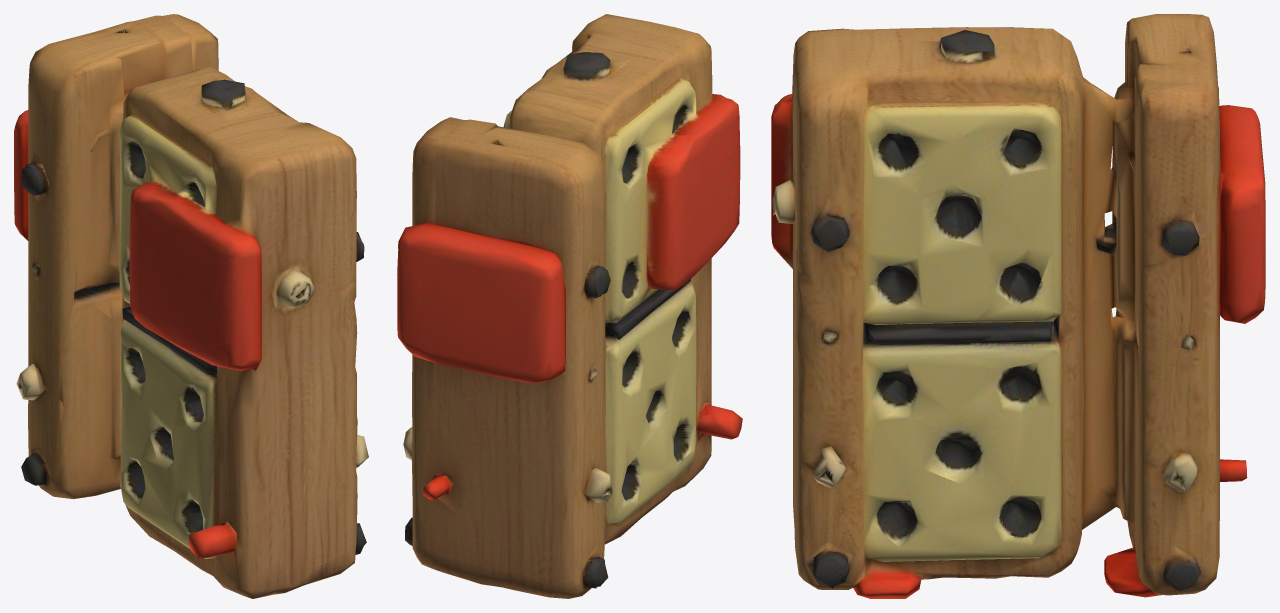
The model's file is dominoes.glb.
3 views of the same model, side by side, from view 1: azimuth 30°, elevation 25°; view 2: azimuth 150°, elevation 25°; view 3: azimuth 270°, elevation 25° (orthographic). The views are drawn at different scales.
Parts seen in each view (by area): view 1: tripo_node_c62f294d-5739-4fee-a490-271acdf34836; view 2: tripo_node_c62f294d-5739-4fee-a490-271acdf34836; view 3: tripo_node_c62f294d-5739-4fee-a490-271acdf34836.
Part boxes in pixels (bbox=[...]): tripo_node_c62f294d-5739-4fee-a490-271acdf34836: bbox=[14, 14, 368, 598]; tripo_node_c62f294d-5739-4fee-a490-271acdf34836: bbox=[397, 14, 742, 598]; tripo_node_c62f294d-5739-4fee-a490-271acdf34836: bbox=[771, 14, 1265, 598].
Bounding box in the file's own units: 0.4567 × 1 × 0.8495.
1 material, 1 textured.
